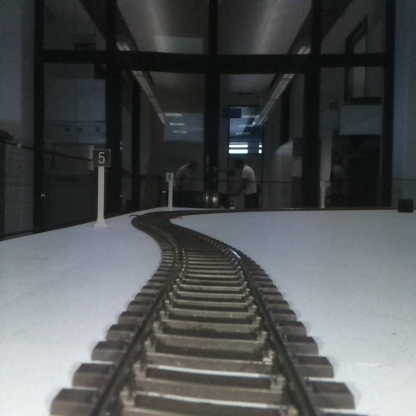black-info-5: (93, 149, 110, 228)
white-info-6: (166, 172, 173, 209)
